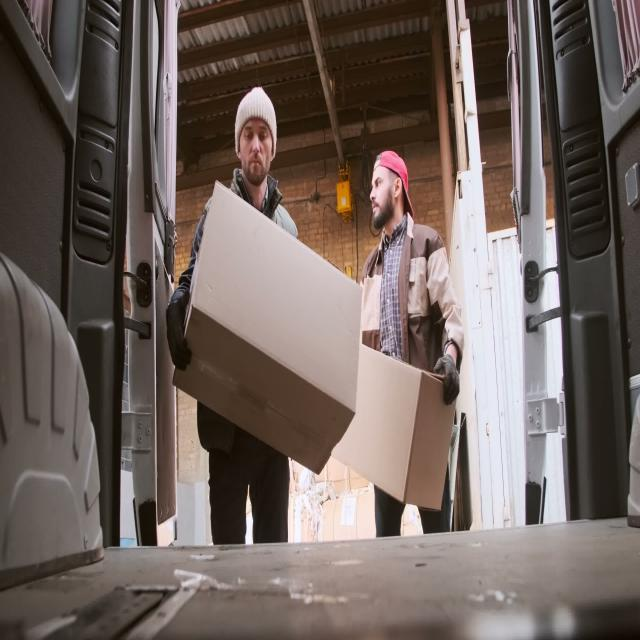counting-the-number-of-boxes: (172, 182, 363, 476), (331, 343, 457, 510)
